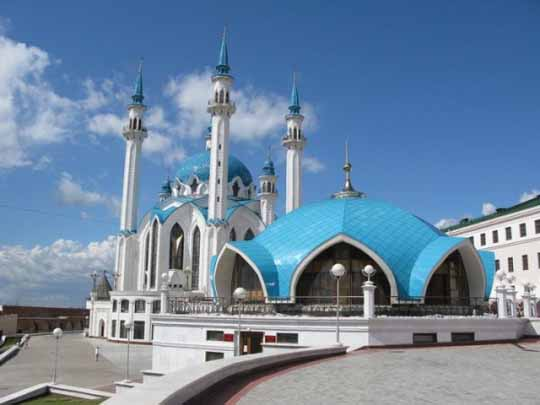Mosque: (117, 44, 491, 326)
